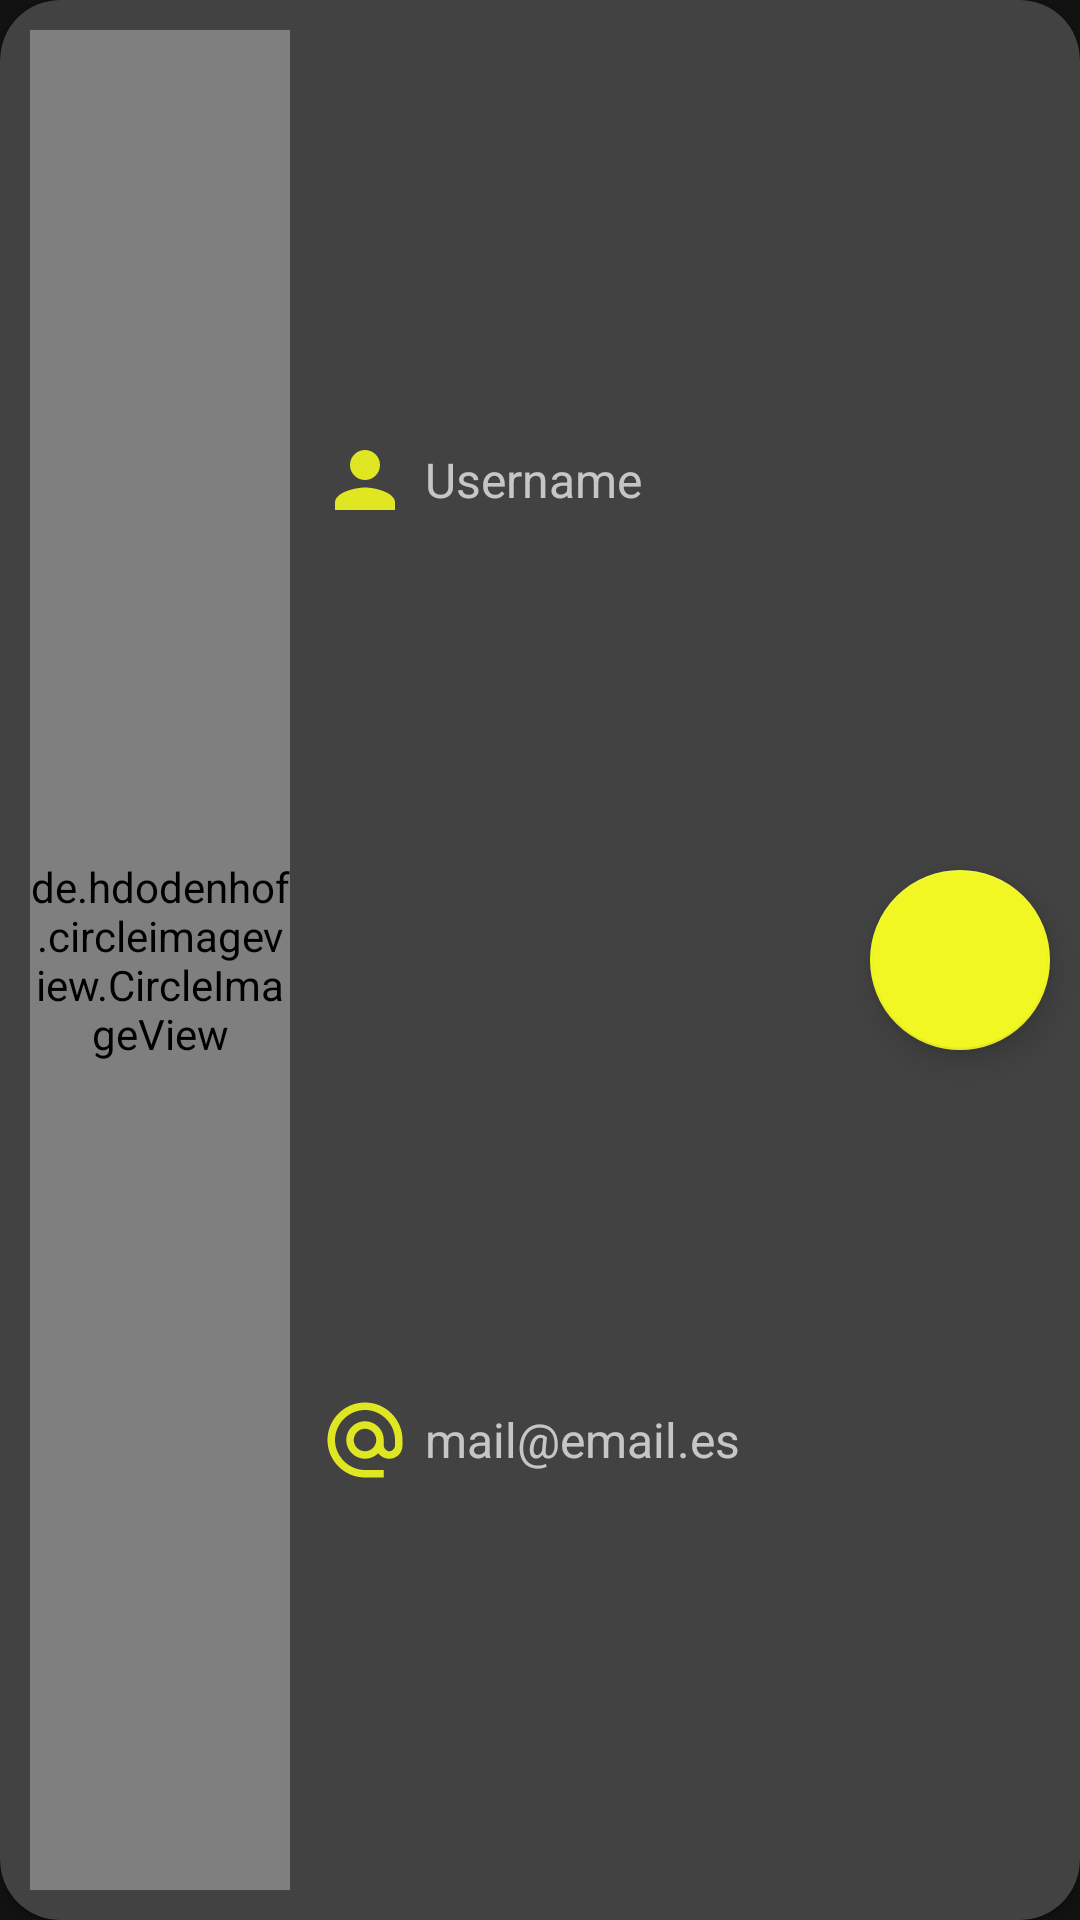

Icons on this 1080px x 1920px Android screen, each with the point to tap as (x,y):
person: (365,480)
